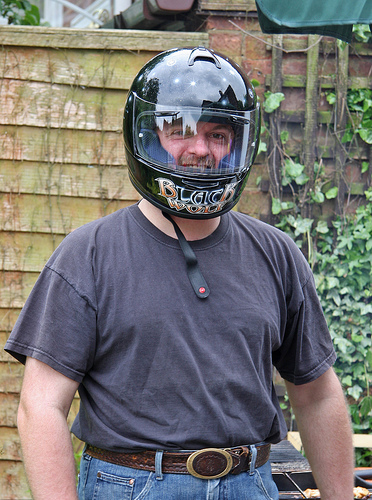helmet: (123, 54, 268, 211)
